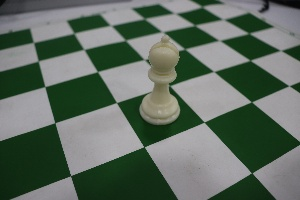white_bishop: (135, 18, 188, 131)
